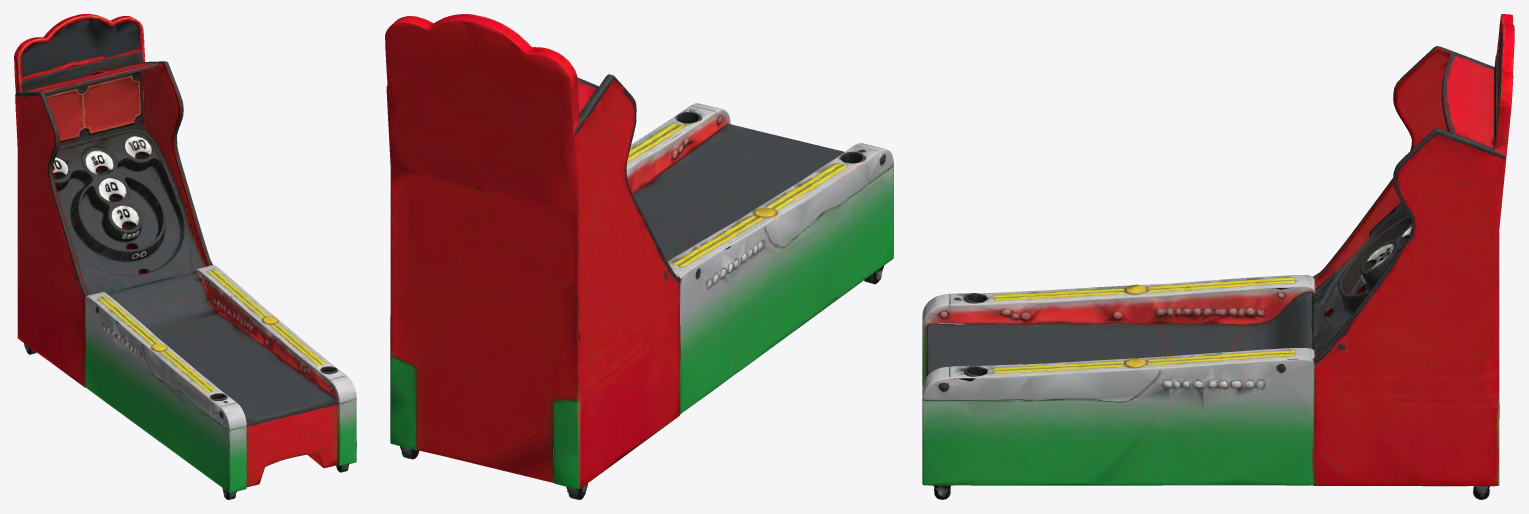
The model's file is a3D-skeeball.glb.
3 views of the same model, side by side, from view 1: azimuth 30°, elevation 25°; view 2: azimuth 150°, elevation 25°; view 3: azimuth 270°, elevation 25° (orthographic). The views are drawn at different scales.
Visible parts, largest first — view 1: geometry_0; view 2: geometry_0; view 3: geometry_0.
Boxes of the visible parts, bbox=[...] form: geometry_0: bbox=[14, 14, 356, 499]; geometry_0: bbox=[385, 14, 893, 499]; geometry_0: bbox=[922, 14, 1514, 499].
Size of the model in its own units: 0.6524 by 1.53 by 1.9.
1 material, 1 textured.
